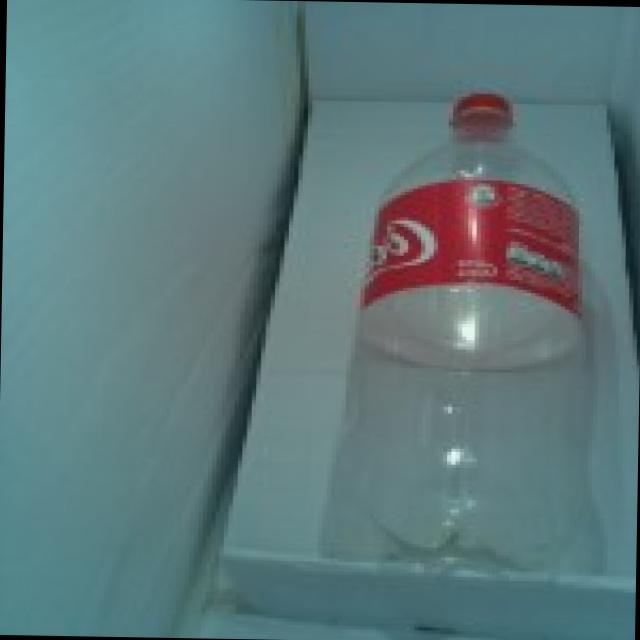good: (307, 74, 608, 600)
